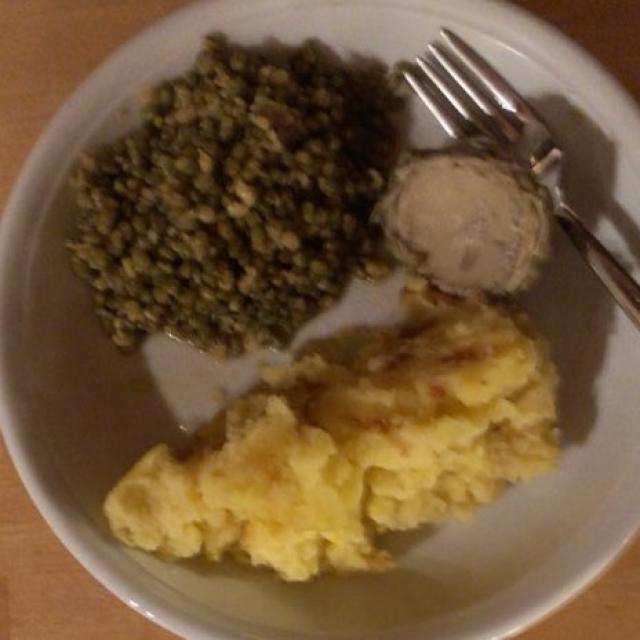artichoke: (378, 147, 551, 305)
lentils: (77, 43, 405, 361)
mashed-potatoes-prepared-with-full-fat-milk-with-butter: (102, 288, 561, 578)
